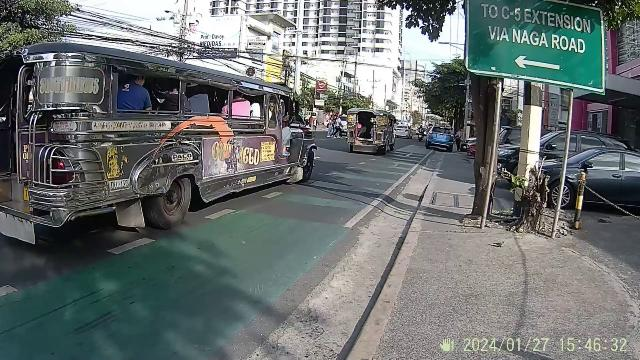street_sign: (458, 0, 592, 248)
